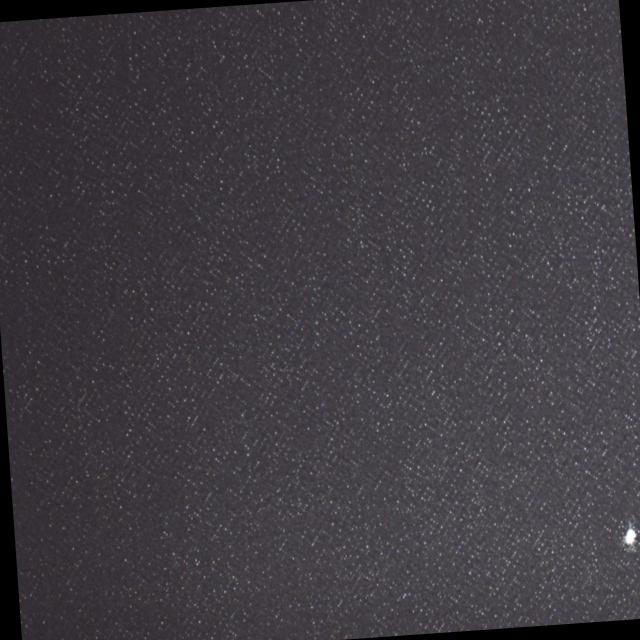hole: (617, 518, 640, 553)
